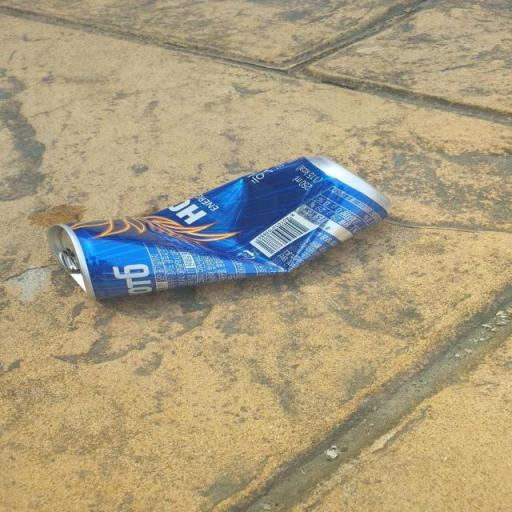metal: (19, 134, 430, 368)
